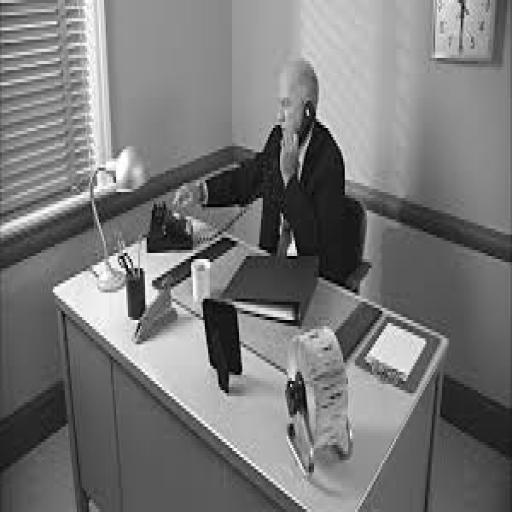calling: (171, 52, 350, 283)
